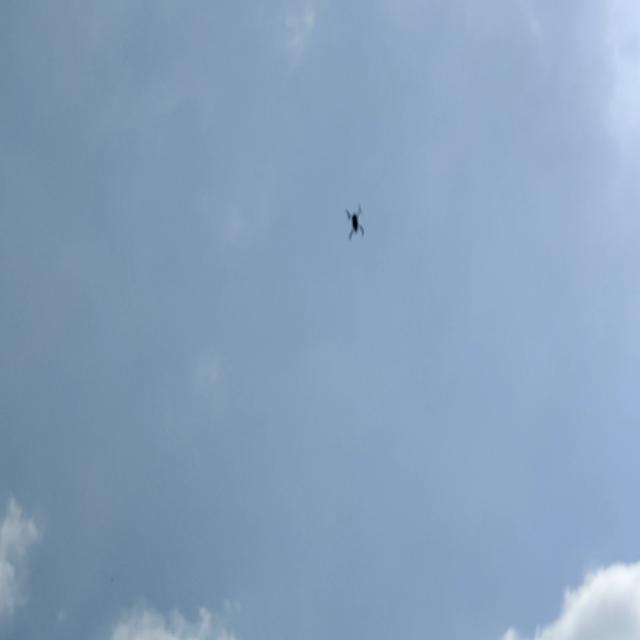drone: (341, 202, 373, 248)
